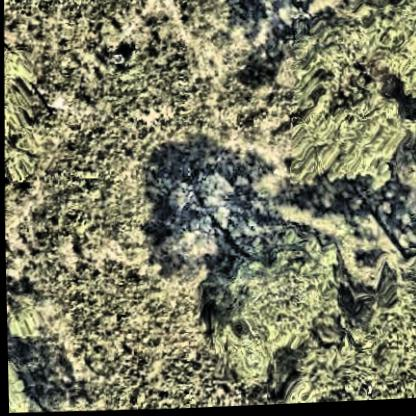tree-top: (268, 248, 416, 407), (193, 227, 339, 370), (277, 82, 410, 192), (2, 44, 41, 188), (5, 283, 39, 339)
